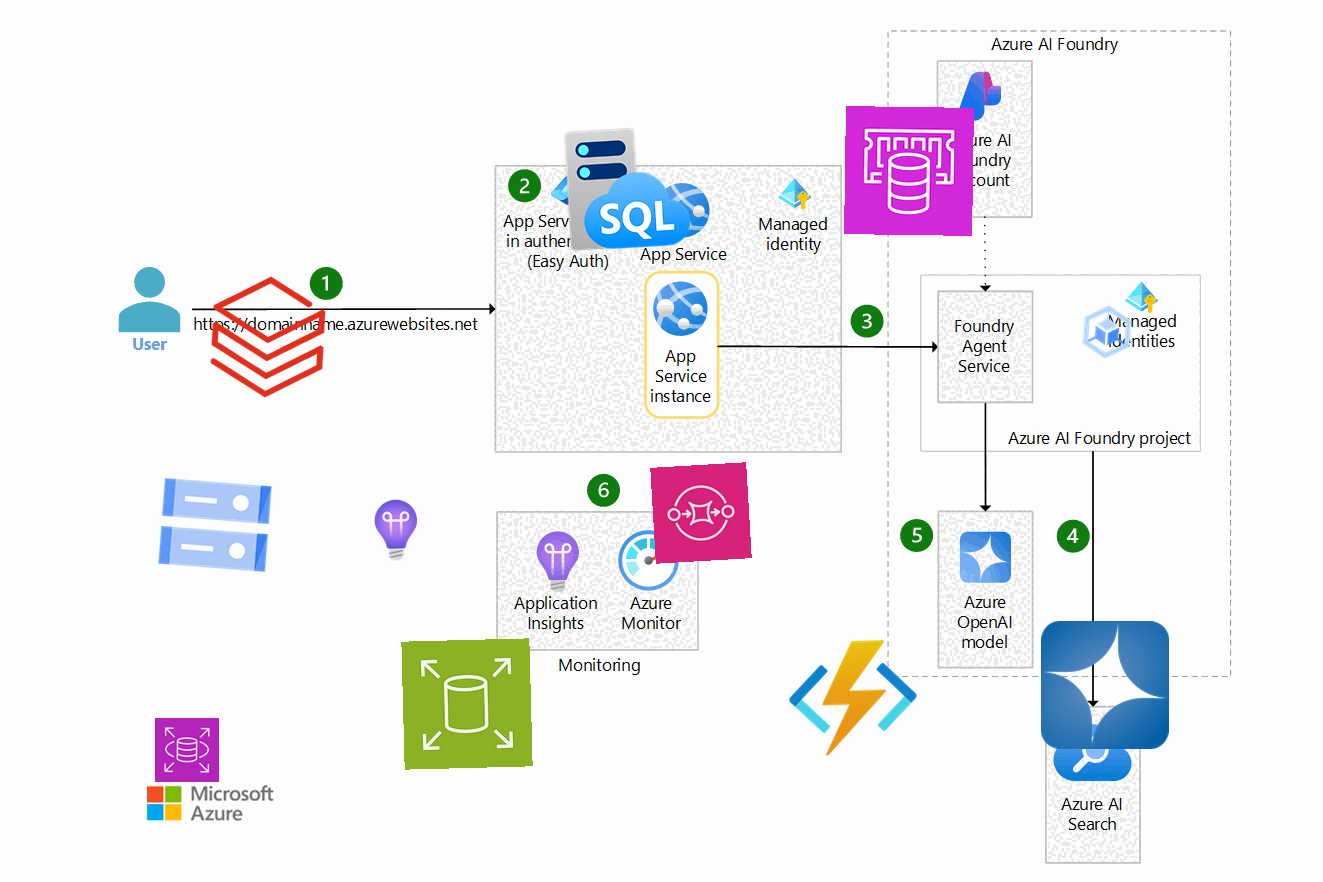aws_amazon_elastic_block_store: (401, 638, 533, 770)
aws_amazon_elasticache: (844, 106, 974, 236)
aws_amazon_rds: (154, 717, 220, 783)
aws_amazon_simple_queue_service: (650, 462, 752, 564)
azure_application_insights: (363, 497, 429, 563)
azure_databricks: (200, 269, 336, 405)
azure_function_apps: (786, 631, 920, 765)
azure_openai: (1040, 620, 1170, 750)
azure_sql_managed_instance: (560, 120, 696, 256)
gcp_cloud_storage: (146, 456, 284, 594)
gcp_google_kubernetes_engine: (1072, 297, 1142, 367)
